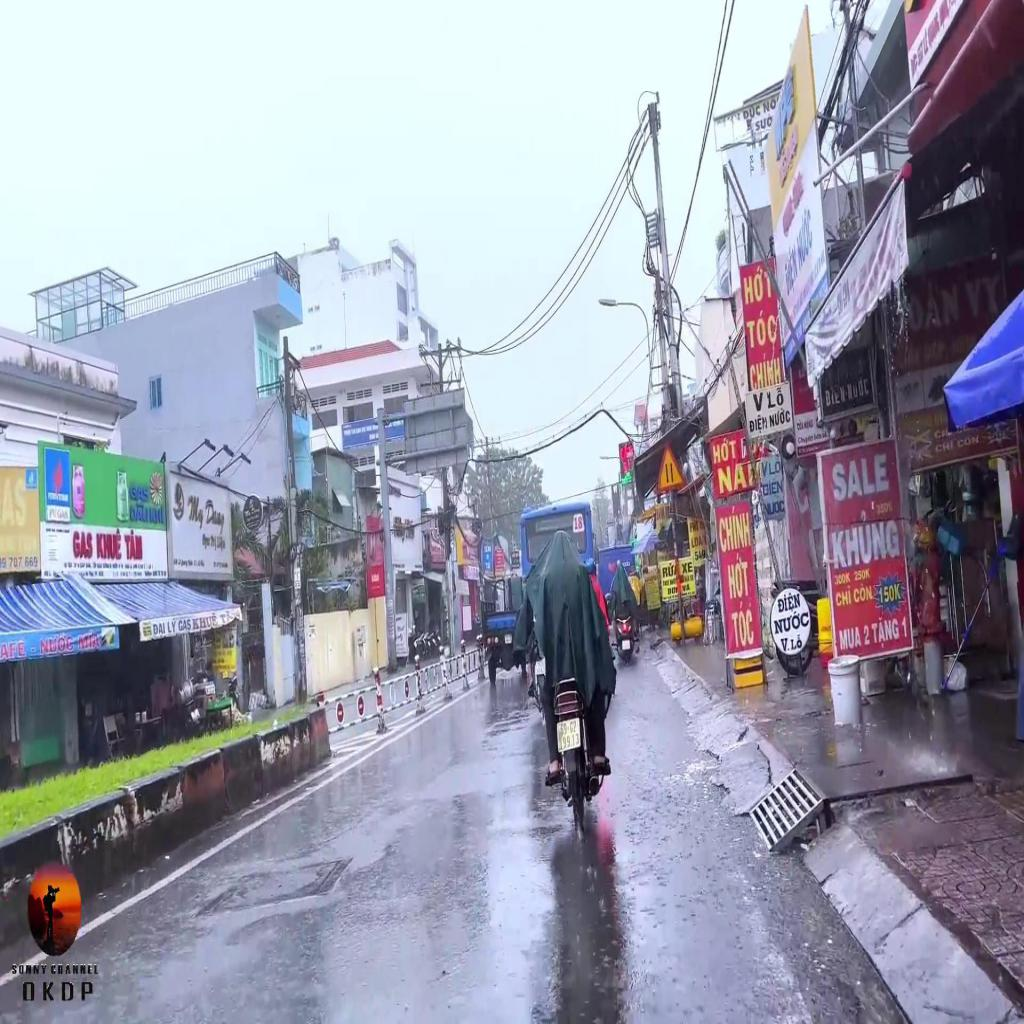khac: (655, 439, 687, 494)
